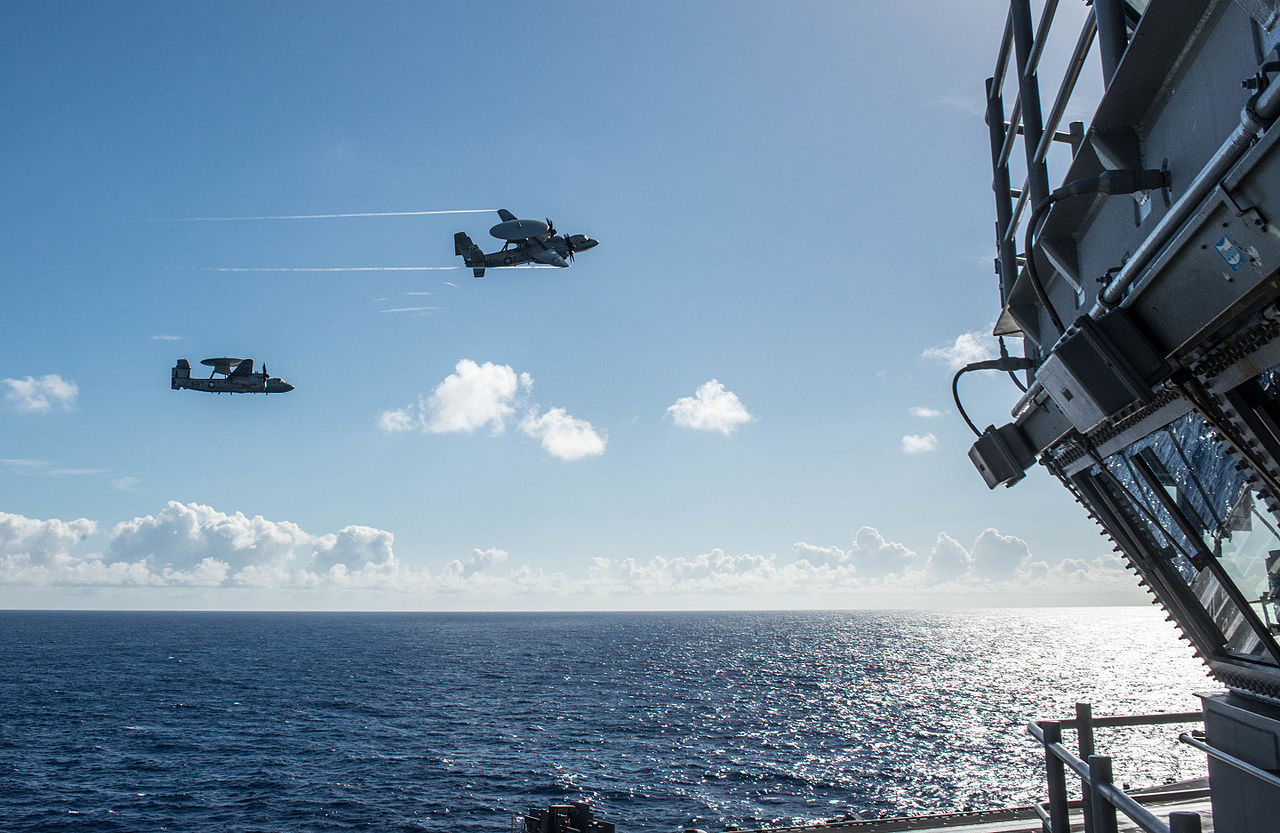E2: (454, 209, 599, 278), (171, 356, 295, 396)
